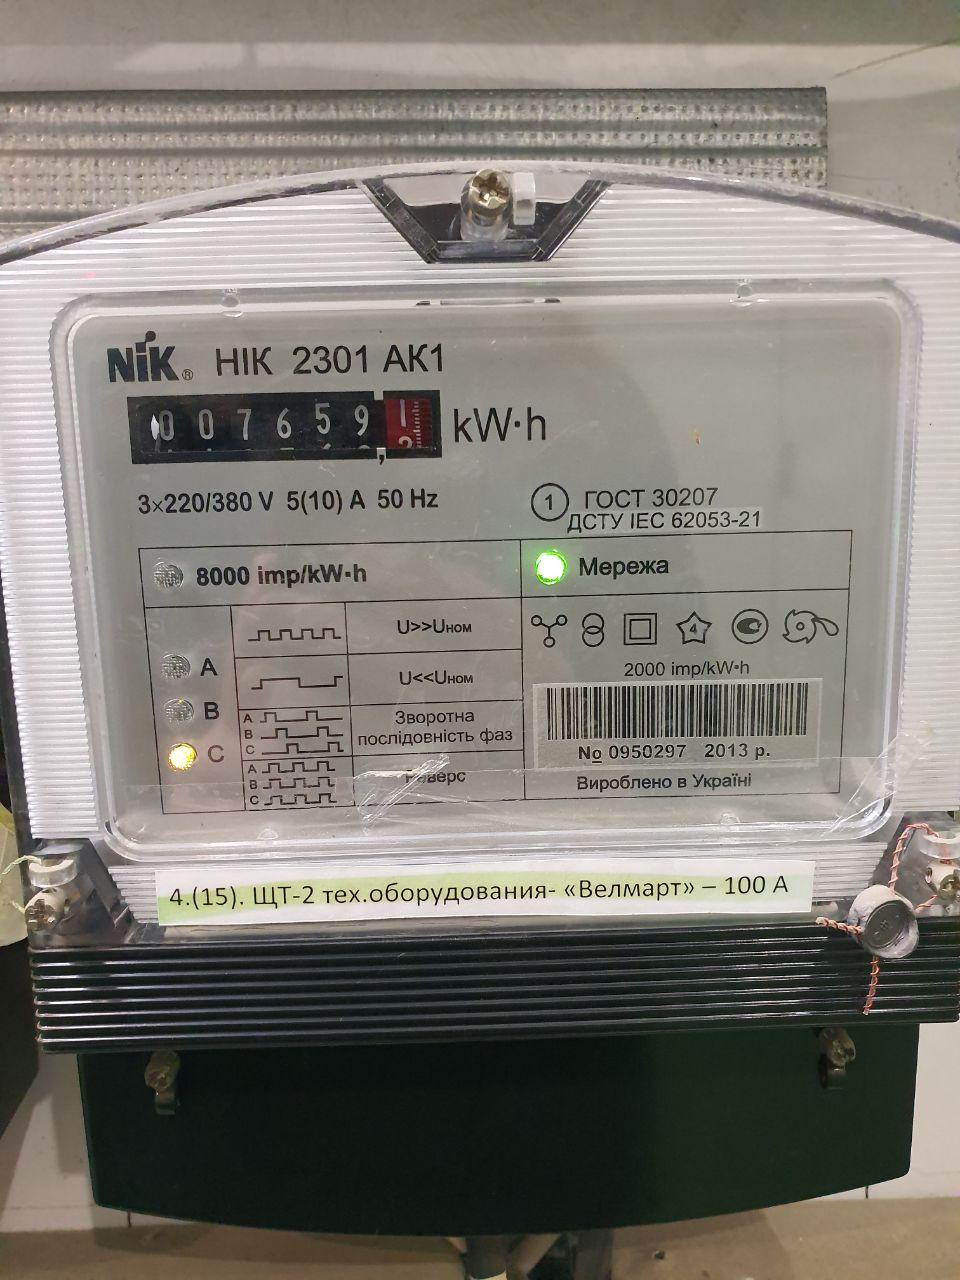0: (195, 406, 218, 443), (156, 406, 177, 445)
1: (395, 395, 411, 431)
5: (313, 400, 333, 437)
6: (273, 405, 295, 441)
7: (233, 405, 254, 443)
9: (351, 402, 372, 439)
screen: (118, 384, 452, 473)
